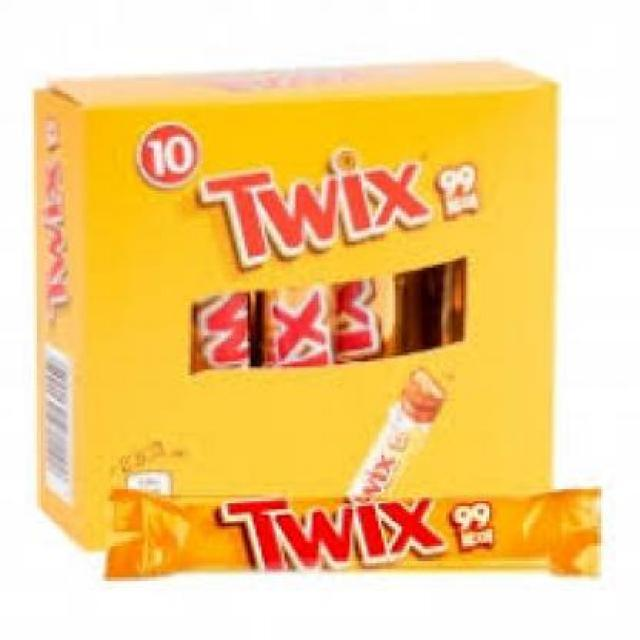Chocolate bar: (97, 480, 606, 589)
